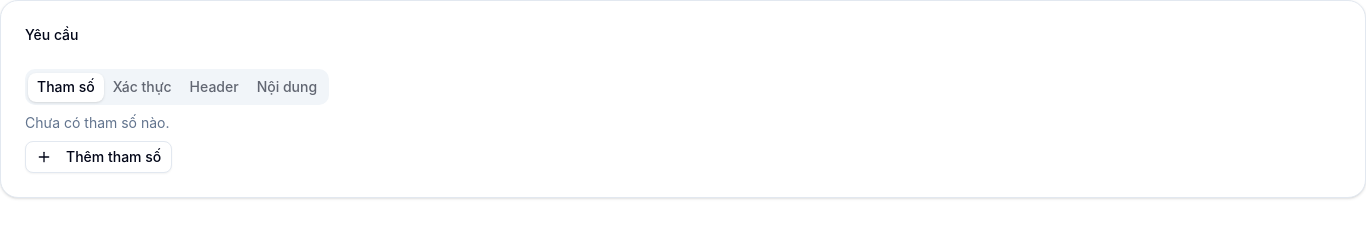
Scenario: RequestPanel › switches to the Authorization tab and shows the auth type selector
What coordinates should you click on to do the following:
click the tab "Xác thực"
I would click on:
 (142, 87)
Its box is [104,72,181,102].
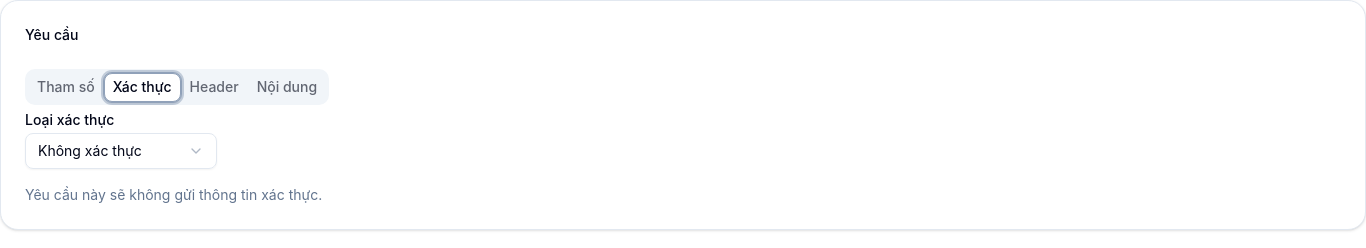
Check: the text "Yêu cầu này sẽ không gửi thông tin xác thực." is shown, box [25,186,322,203]
